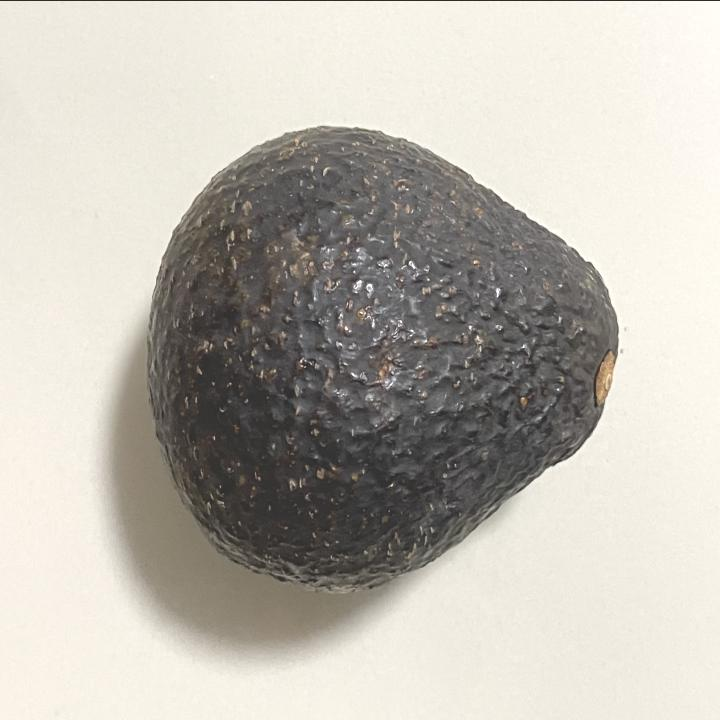Level2: (140, 117, 632, 601)
